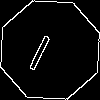I: (25, 25, 58, 72)
